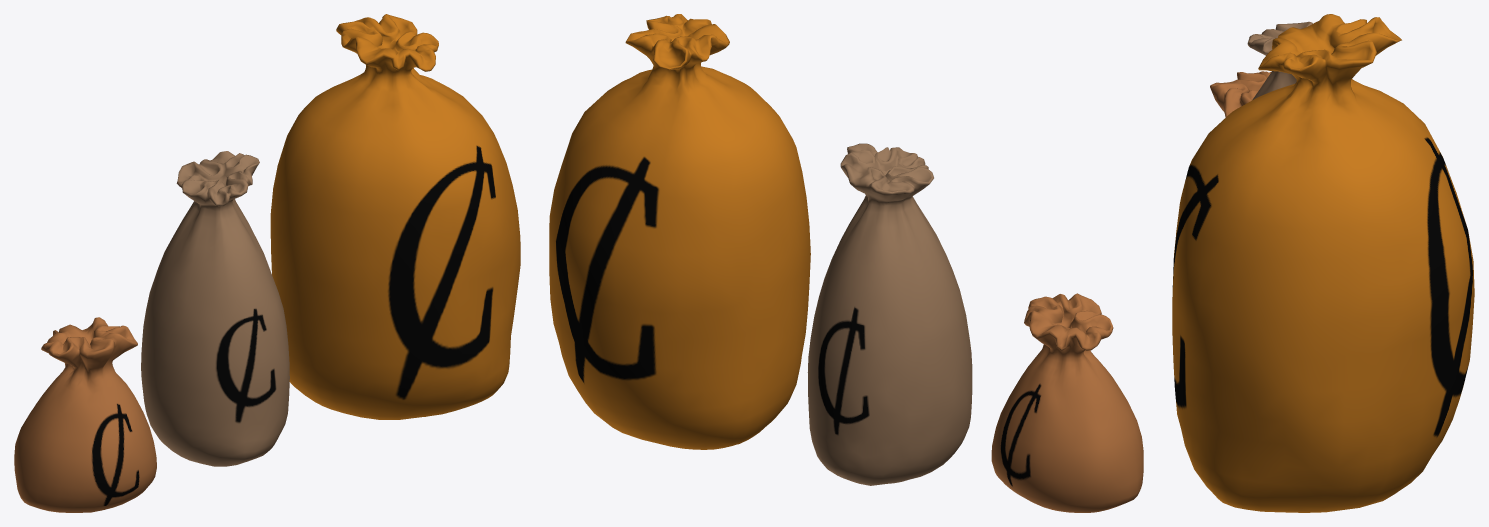
File: MoneyBag-Texture.FBX
3 views of the same model, side by side, from view 1: azimuth 30°, elevation 25°; view 2: azimuth 150°, elevation 25°; view 3: azimuth 270°, elevation 25° (orthographic). The views are drawn at different scales.
Parts seen in each view (by area): view 1: Money_Sack_A_big, Money_Sack_A_medium, Money_Sack_A_small; view 2: Money_Sack_A_big, Money_Sack_A_medium, Money_Sack_A_small; view 3: Money_Sack_A_big, Money_Sack_A_small, Money_Sack_A_medium.
Boxes of the visible parts, bbox=[...] form: Money_Sack_A_big: bbox=[270, 14, 520, 419]; Money_Sack_A_medium: bbox=[141, 151, 289, 466]; Money_Sack_A_small: bbox=[14, 317, 156, 512]; Money_Sack_A_big: bbox=[549, 14, 810, 449]; Money_Sack_A_medium: bbox=[807, 143, 972, 485]; Money_Sack_A_small: bbox=[991, 293, 1143, 512]; Money_Sack_A_big: bbox=[1172, 14, 1474, 512]; Money_Sack_A_small: bbox=[1210, 71, 1271, 117]; Money_Sack_A_medium: bbox=[1247, 21, 1312, 99].
Size of the model in its own units: 45.65 by 32.02 by 19.07.
Materials: 3 (3 with a texture image).
